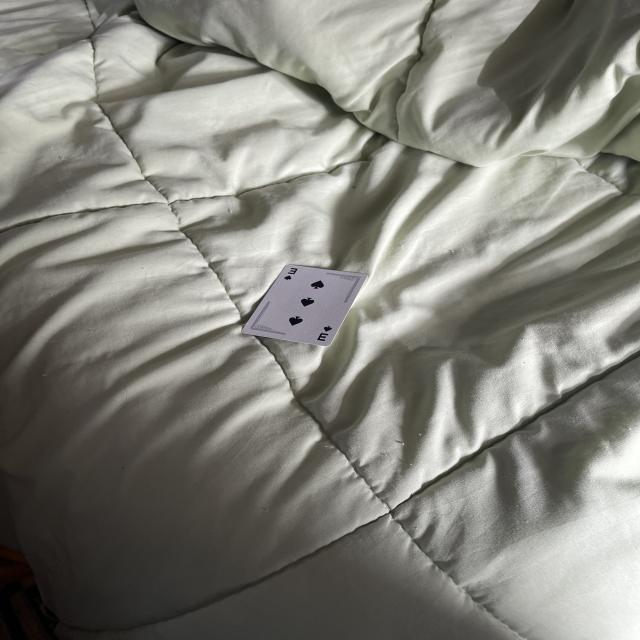3 of spades: (242, 265, 366, 346)
